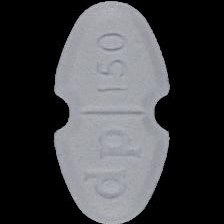54868-4535: (0, 0, 224, 224)
